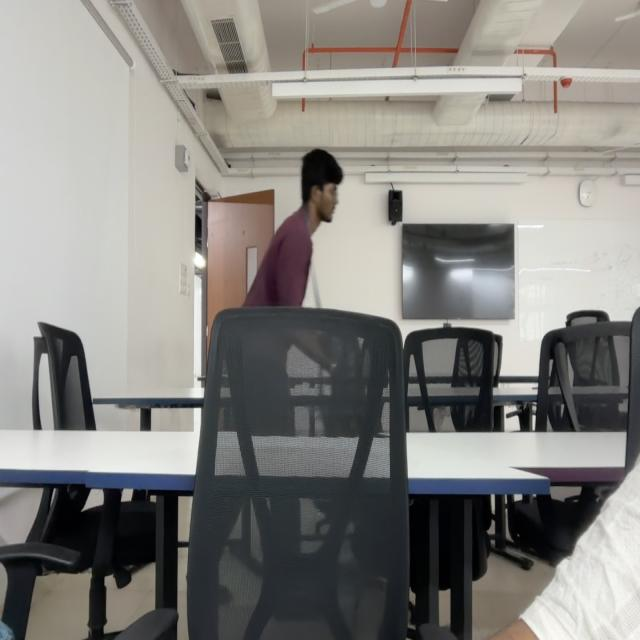ravindra: (300, 146, 342, 230)
